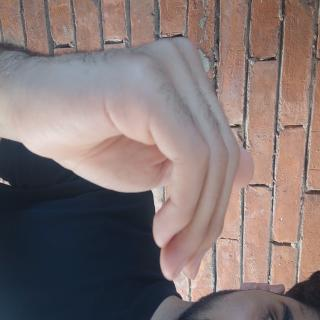KHAA: (19, 77, 217, 320)
